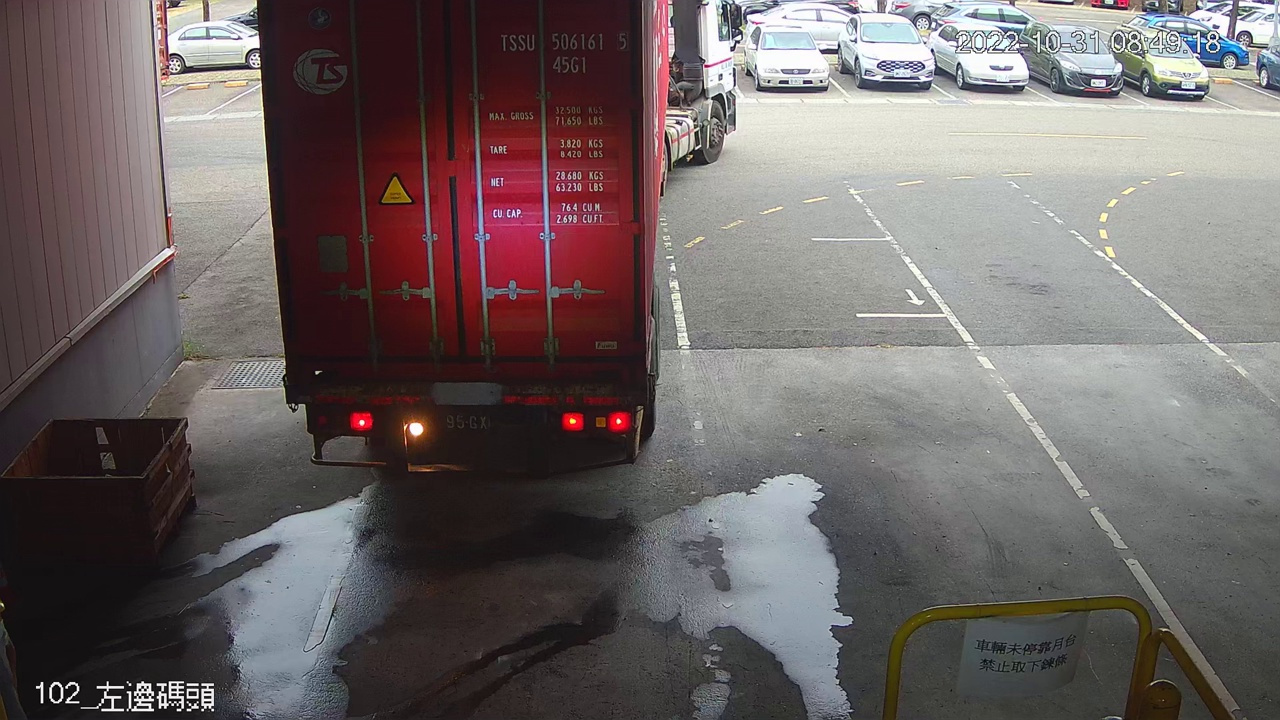container: (494, 28, 636, 77)
